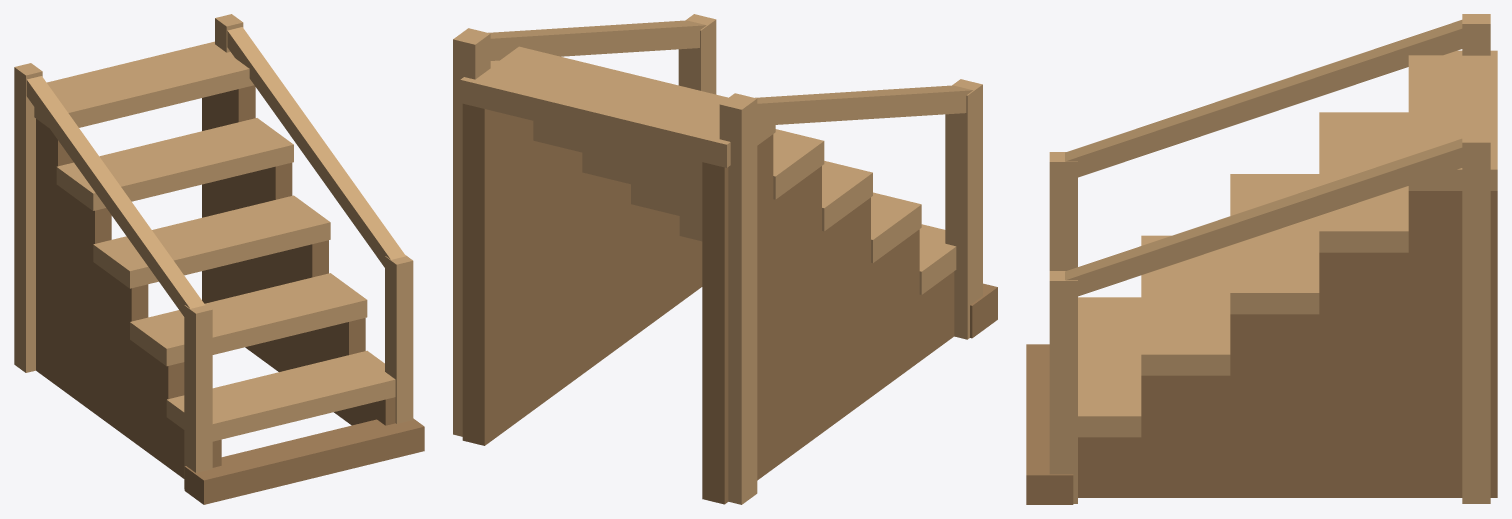
File: spectator-stand-stair.glb
3 views of the same model, side by side, from view 1: azimuth 30°, elevation 25°; view 2: azimuth 150°, elevation 25°; view 3: azimuth 270°, elevation 25° (orthographic). The views are drawn at different scales.
Visible parts, largest first — view 1: spectator-stand-stair; view 2: spectator-stand-stair; view 3: spectator-stand-stair.
Boxes of the visible parts, bbox=[...] form: spectator-stand-stair: bbox=[14, 14, 424, 504]; spectator-stand-stair: bbox=[453, 14, 997, 504]; spectator-stand-stair: bbox=[1026, 14, 1497, 504].
Bounding box in the file's own units: 1.32 × 1.7 × 2.01.
